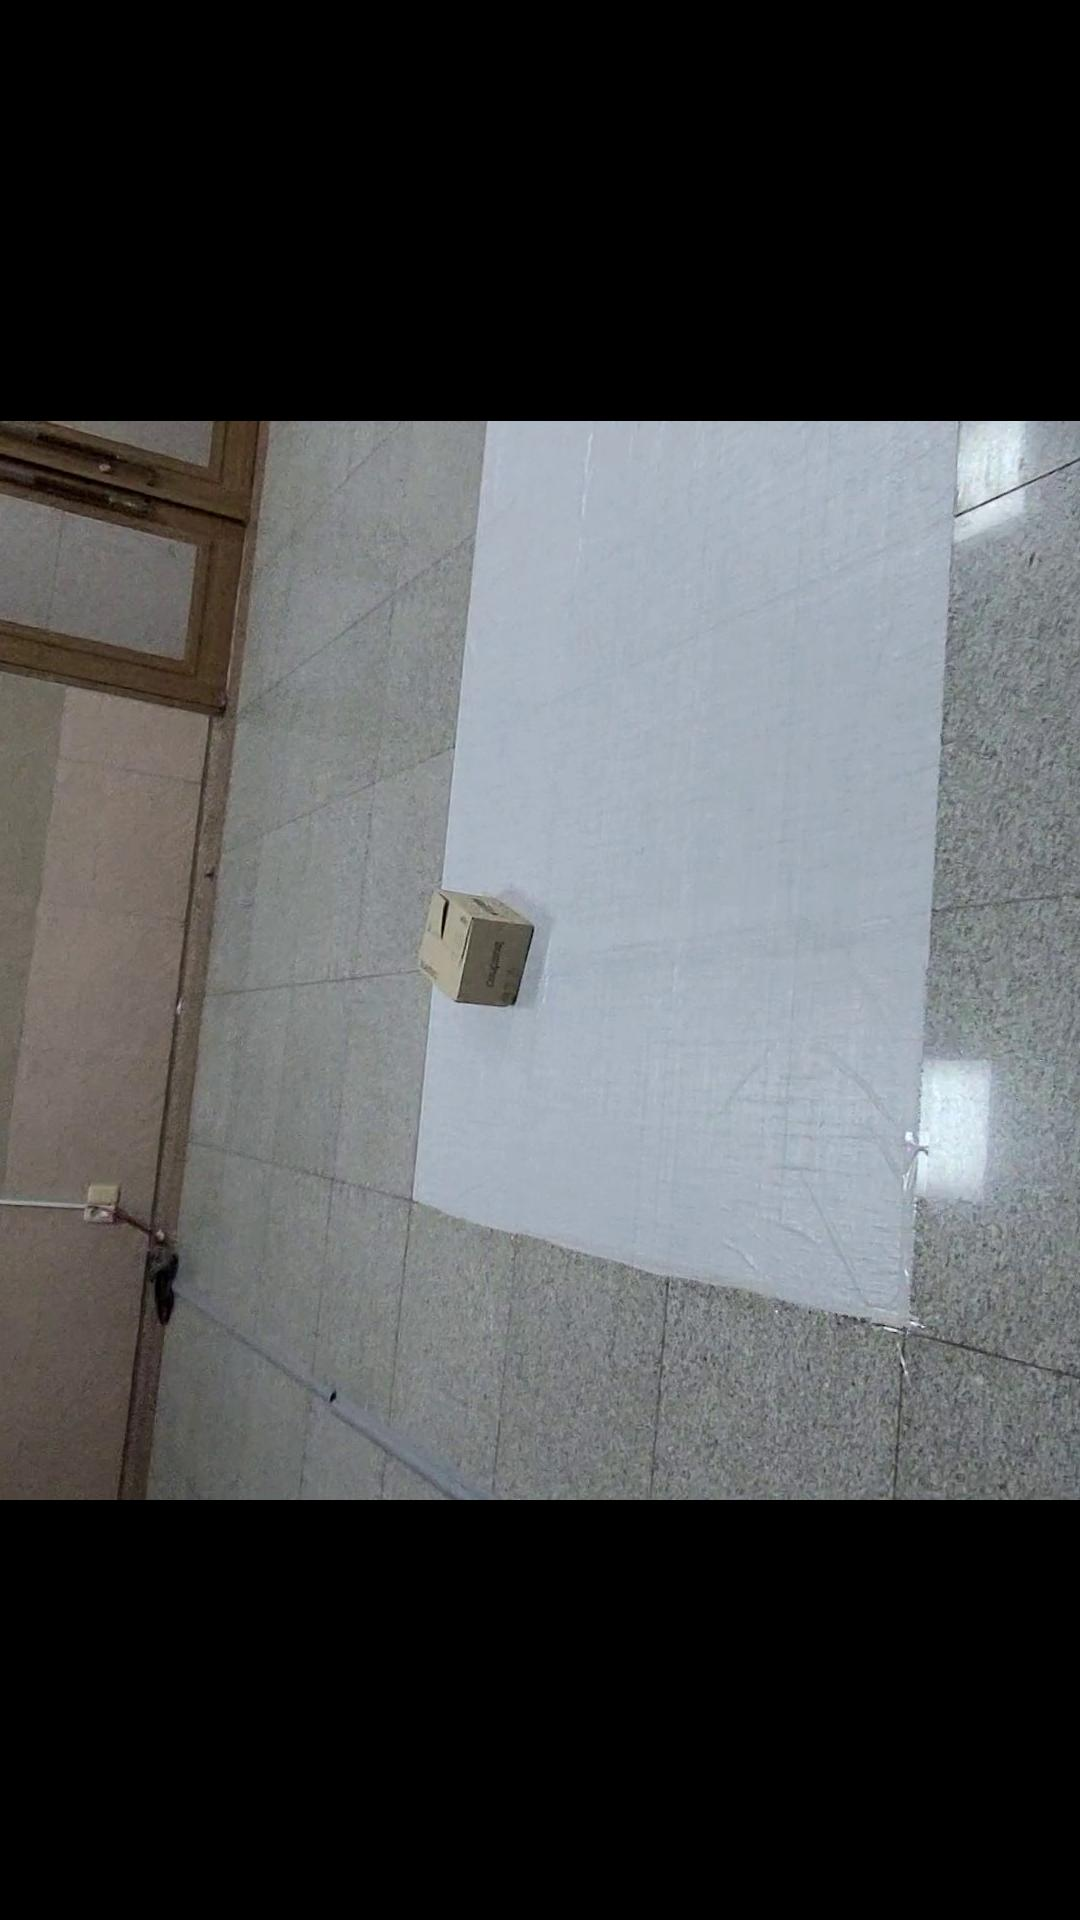Box: (400, 885, 547, 1014)
